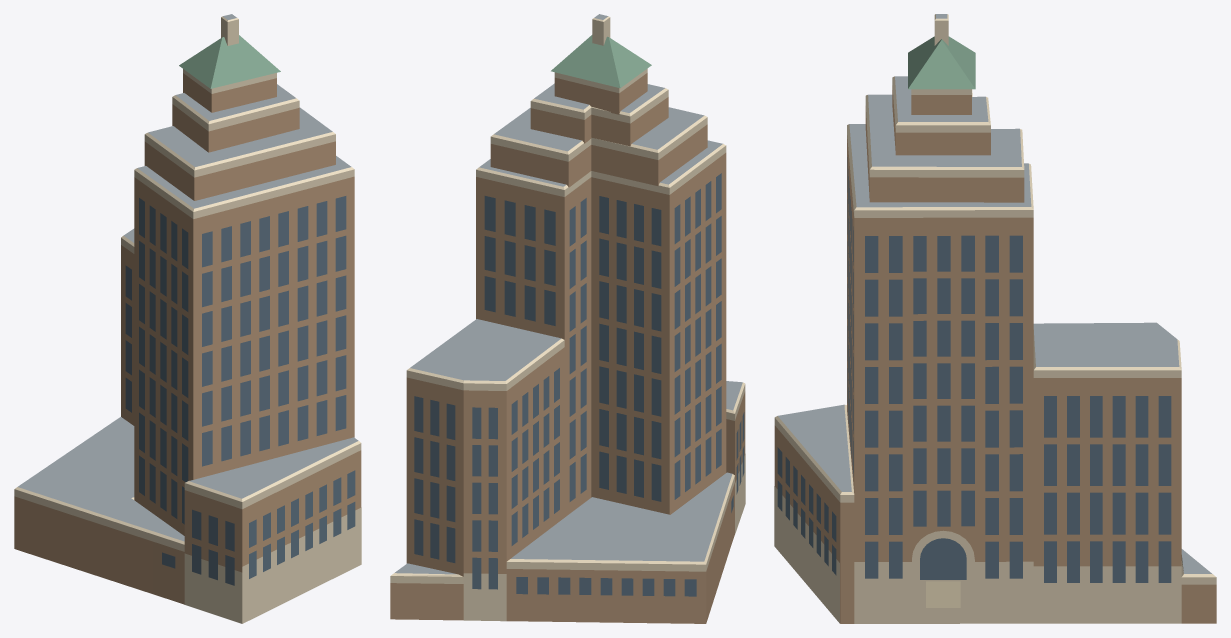
File: van-marine-building.glb
3 views of the same model, side by side, from view 1: azimuth 30°, elevation 25°; view 2: azimuth 150°, elevation 25°; view 3: azimuth 270°, elevation 25° (orthographic). The views are drawn at different scales.
Visible parts, largest first — view 1: Marine Building; view 2: Marine Building; view 3: Marine Building.
Boxes of the visible parts, x1,y1,x2,y2 form: Marine Building: [14, 14, 361, 623]; Marine Building: [390, 14, 745, 623]; Marine Building: [774, 14, 1216, 623].
Bounding box in the file's own units: 44.76 × 93 × 66.03.
